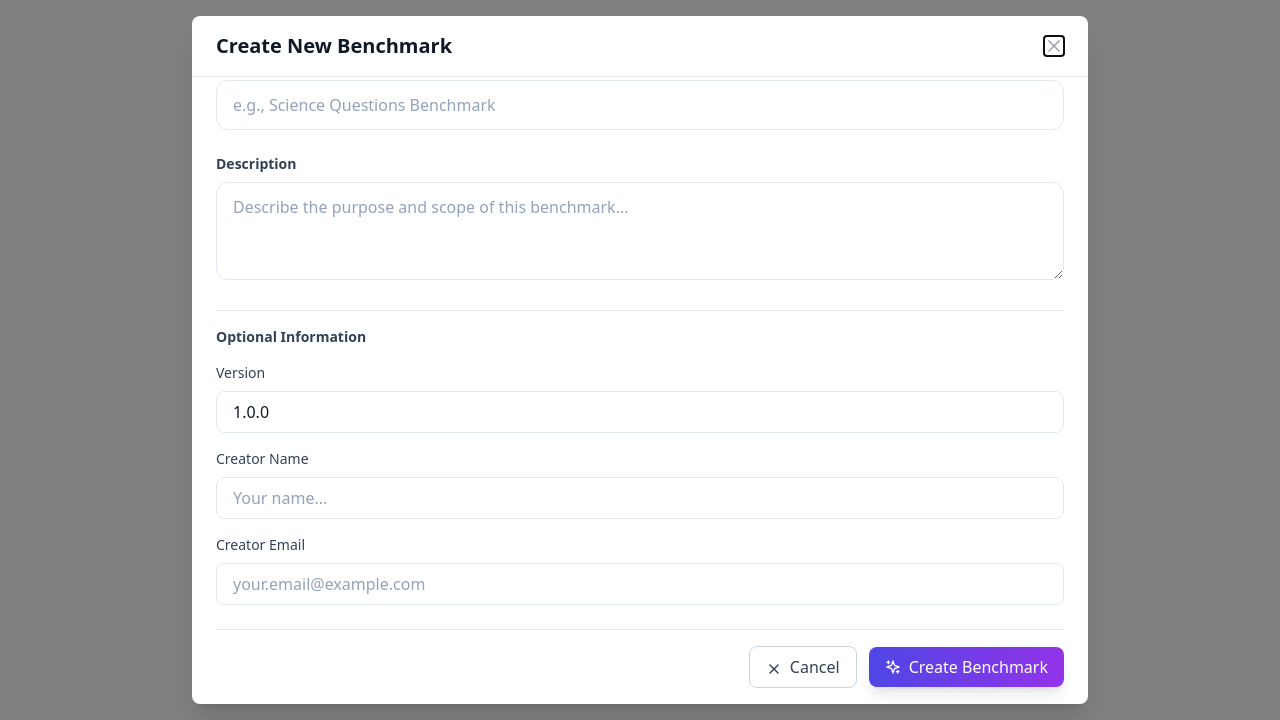
it: NewBenchmarkModal › clears validation error when user types in name field
The image size is (1280, 720).
(page scrolled)
# Trigger validation error
Click the button "Create Benchmark".
click(966, 667)  # box [869,647,1064,687]
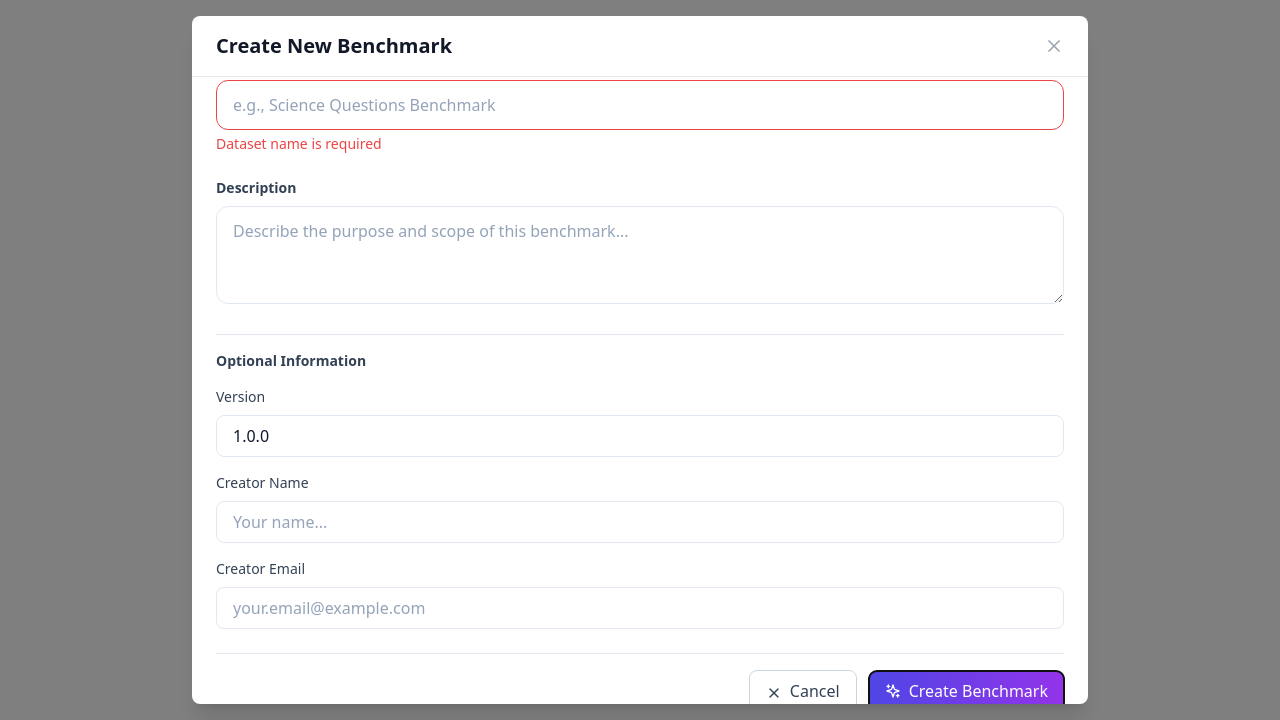
Expected: the text "Dataset name is required" is shown, [216,134,382,153]
# Type in name field
Type "Test" into the field with placeholder "e.g., Science Questions Benchmark".
click(640, 105); type("Test")  # box [216,80,1064,130]
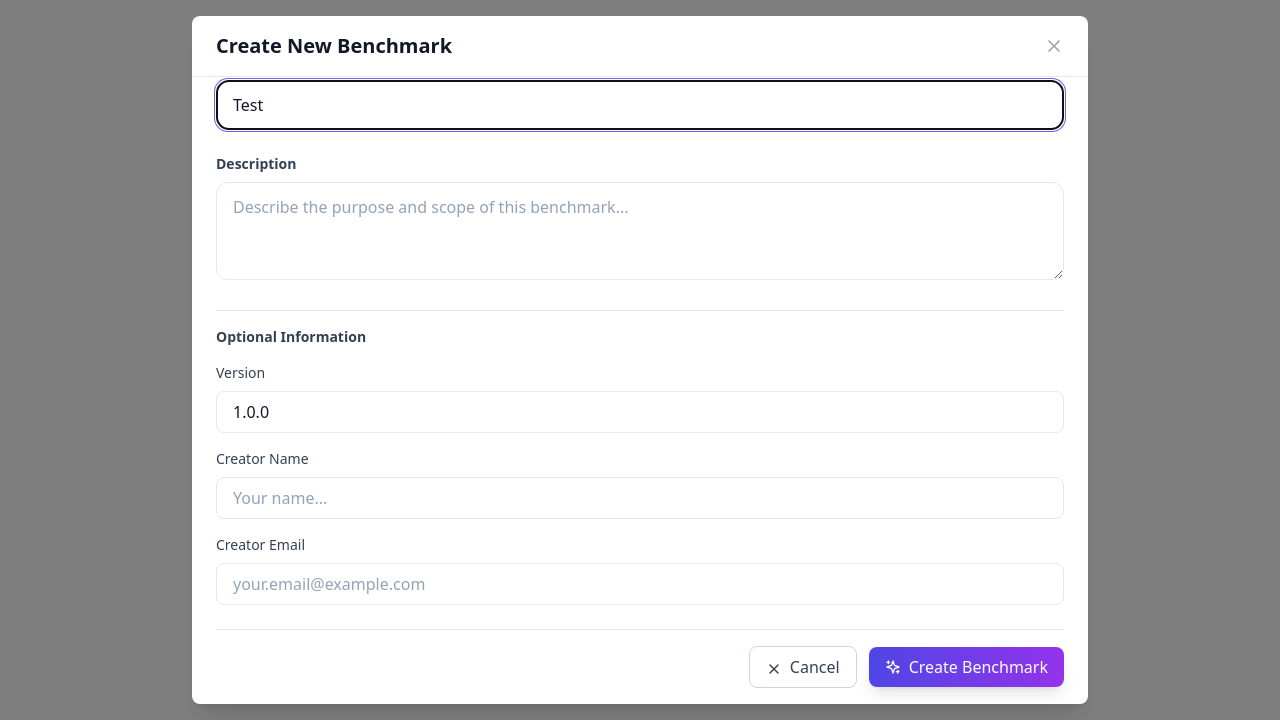
Expected: the text "Dataset name is required" is gone
